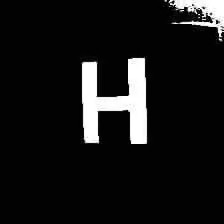LTR_H: (73, 49, 151, 150)
